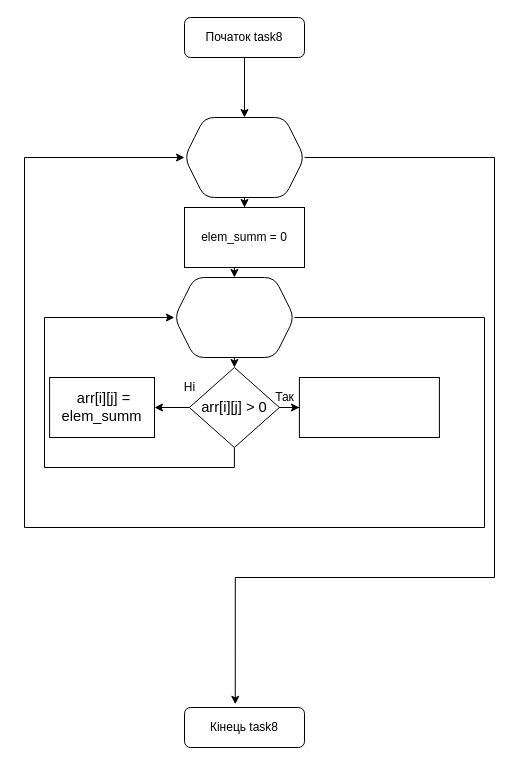
Image size: 520x765. Some labels were removed from this diagram. Each missing label, with the box of its shape:
elem_summ += arr[i][j]: (298, 376, 439, 438)
i = 0; i < 5; i++: (184, 116, 304, 198)
j = 0; j < 10; j++: (173, 276, 294, 358)
